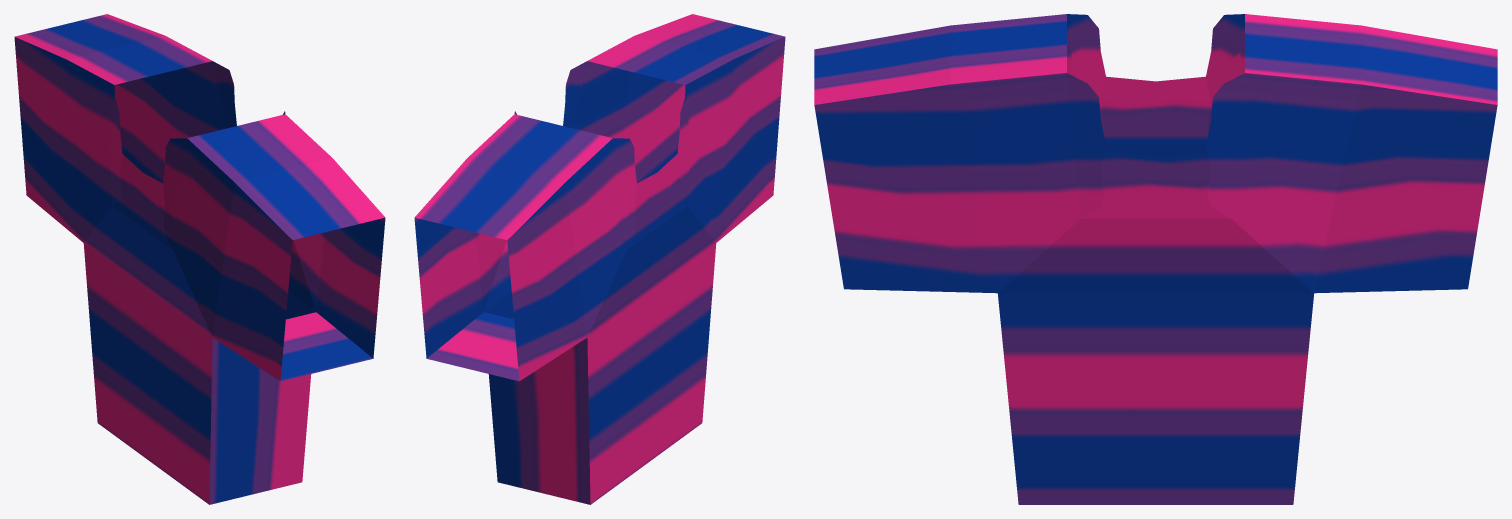
Rendered from shirt.fbx.
3 renders of one model, left to right at view 1: azimuth 30°, elevation 25°; view 2: azimuth 150°, elevation 25°; view 3: azimuth 270°, elevation 25°, orthographic. The views are drawn at different scales.
Visible parts, largest first — view 1: Cube; view 2: Cube; view 3: Cube.
Boxes of the visible parts, <box> form: Cube: <box>14,14,385,504</box>; Cube: <box>414,14,785,504</box>; Cube: <box>814,14,1497,504</box>.
Bounding box in the file's own units: 200 × 589 × 841.
